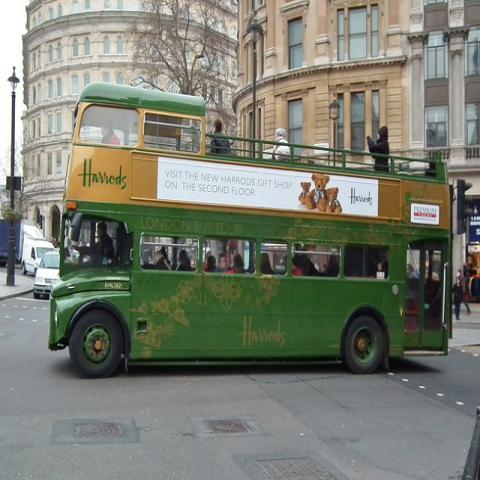bus: (46, 83, 455, 382)
car: (31, 250, 60, 299)
truck: (17, 222, 56, 276), (0, 220, 20, 268)
